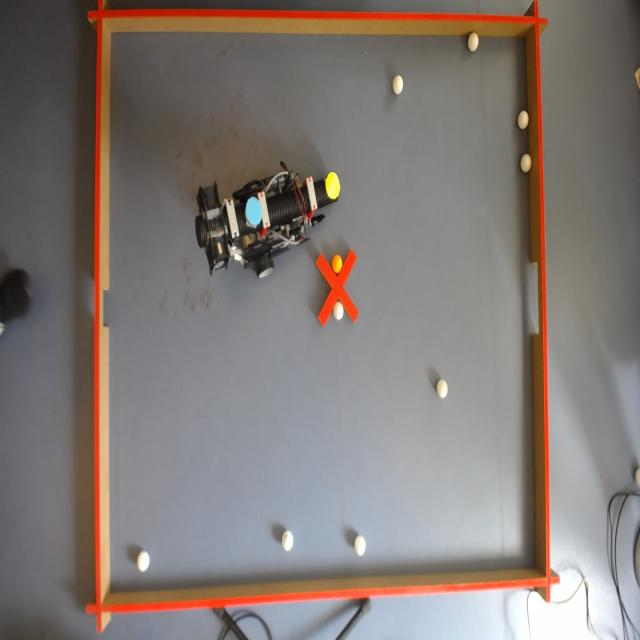orange: (334, 256, 344, 273)
robot: (194, 159, 339, 276)
robot-front: (327, 170, 343, 198)
robot-rear: (244, 192, 270, 230)
white: (282, 530, 296, 554), (136, 550, 151, 572), (468, 33, 482, 54), (519, 153, 532, 174), (436, 378, 449, 399), (355, 536, 368, 557), (393, 75, 405, 96), (518, 108, 528, 132), (332, 302, 342, 322)
